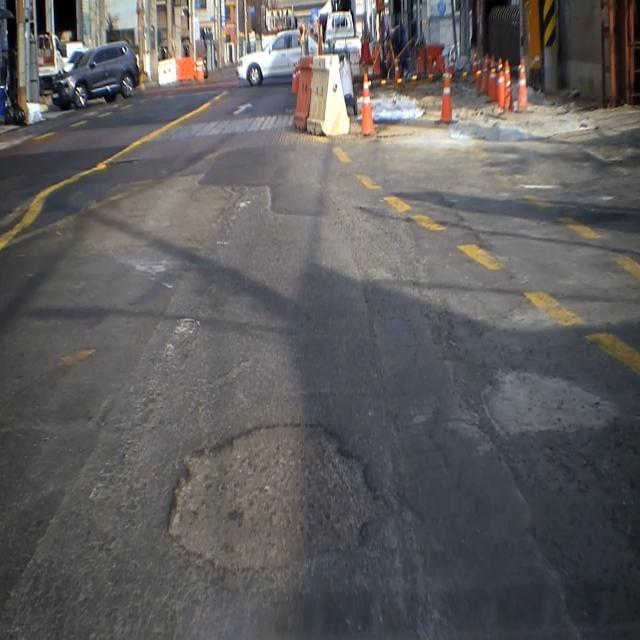Buraco: (158, 418, 398, 581)
